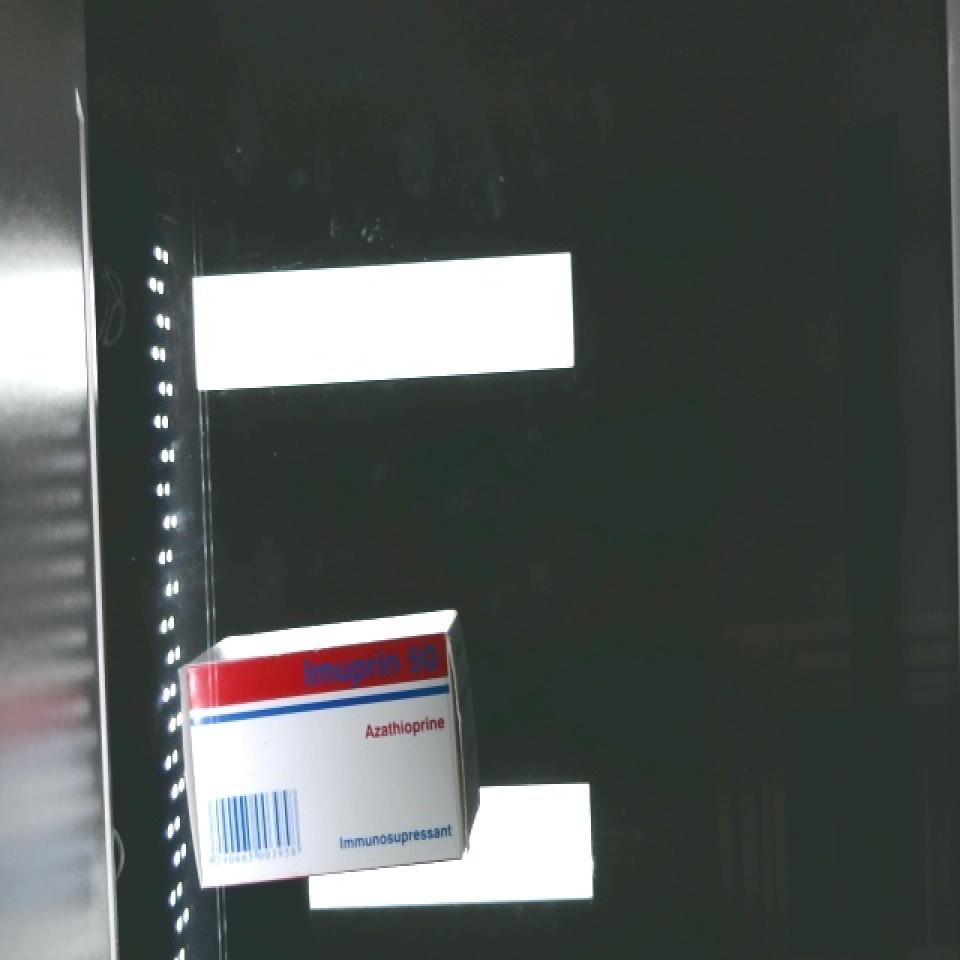medicine_box: (160, 612, 491, 891)
medicine_label_obb: (287, 634, 455, 710)
